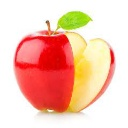apple: (67, 35, 115, 113)
